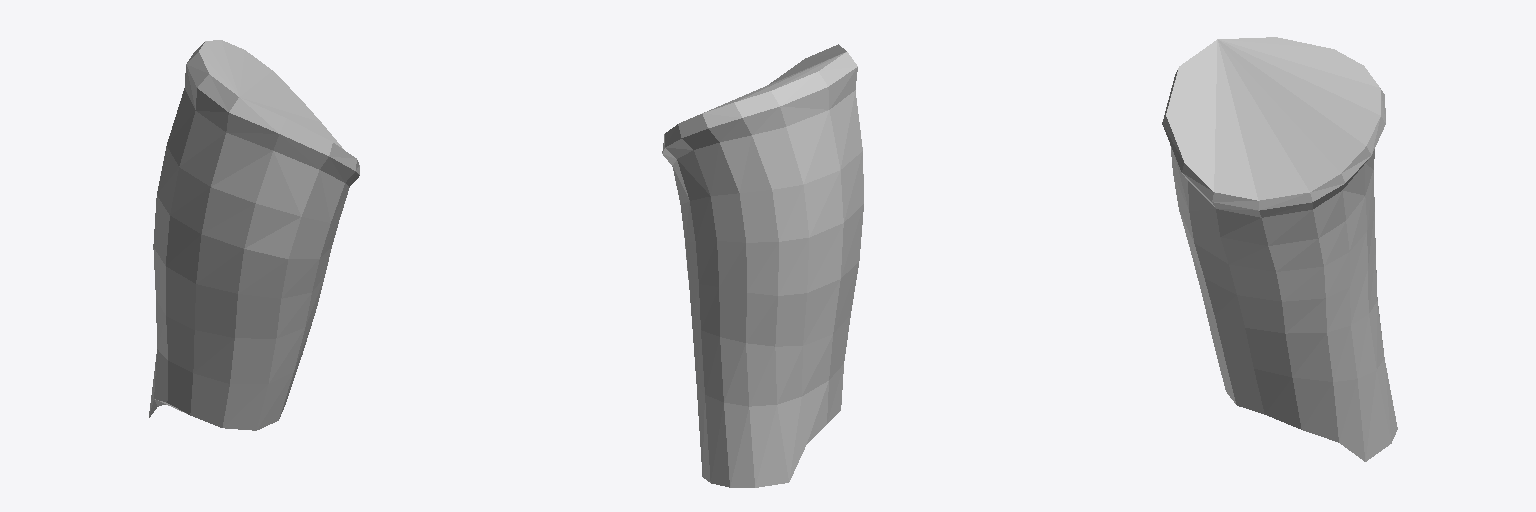
Rendered from jambe_droite.obj.
The picture shows the model from 3 angles: view 1: azimuth 30°, elevation 25°; view 2: azimuth 150°, elevation 25°; view 3: azimuth 270°, elevation 25°; orthographic projection.
Parts seen in each view (by area): view 1: Soi_SimpleArmor.001_Plane.006; view 2: Soi_SimpleArmor.001_Plane.006; view 3: Soi_SimpleArmor.001_Plane.006.
Boxes of the visible parts, x1=… form: Soi_SimpleArmor.001_Plane.006: x1=149, y1=40, x2=359, y2=430; Soi_SimpleArmor.001_Plane.006: x1=662, y1=44, x2=863, y2=487; Soi_SimpleArmor.001_Plane.006: x1=1162, y1=37, x2=1397, y2=461.
Size of the model in its own units: 0.1843 by 0.4215 by 0.2307.